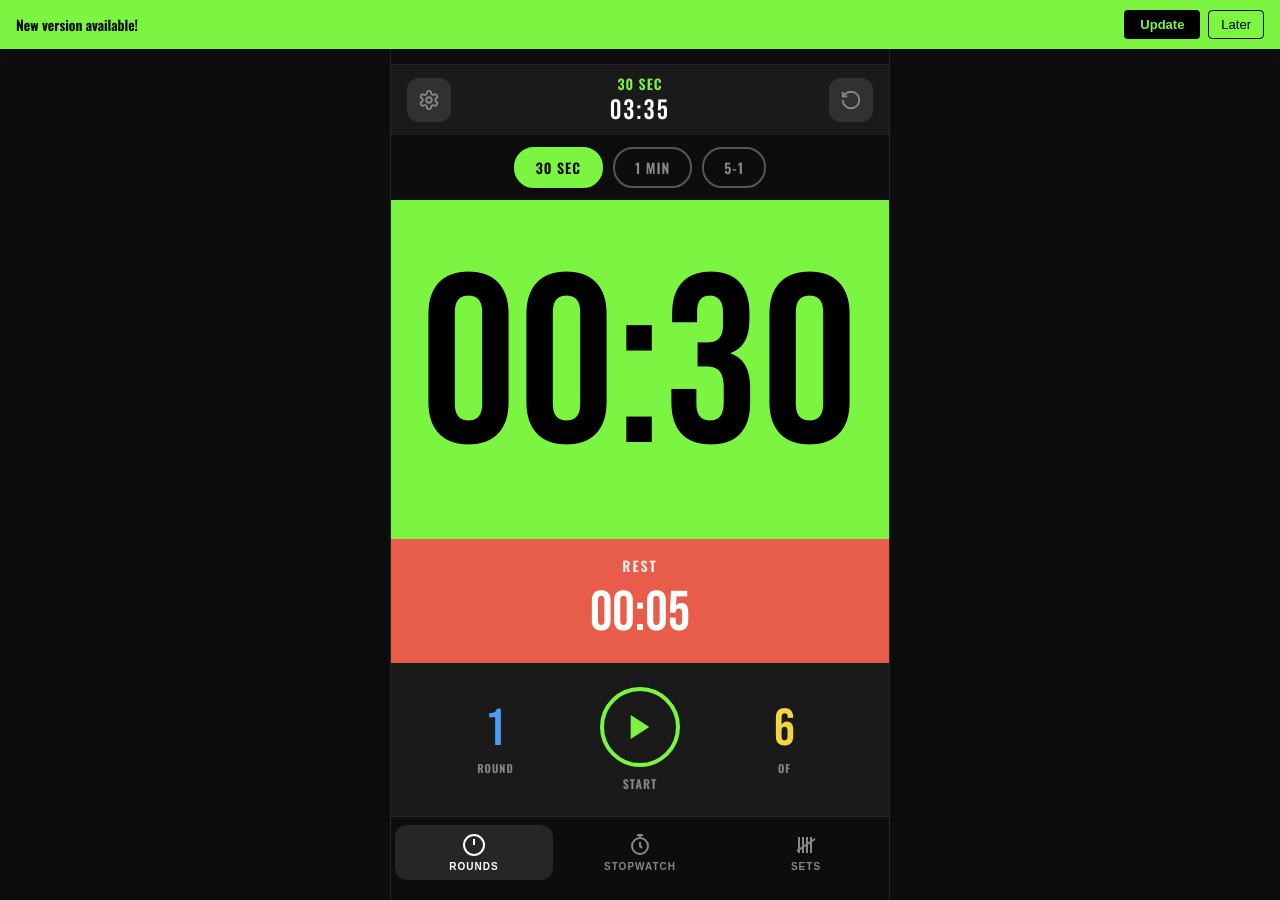
Test: App › should close timer settings modal when close button clicked
The image size is (1280, 900).
Click the button named "Timer Settings" at (429, 100), box [407,78,451,122]
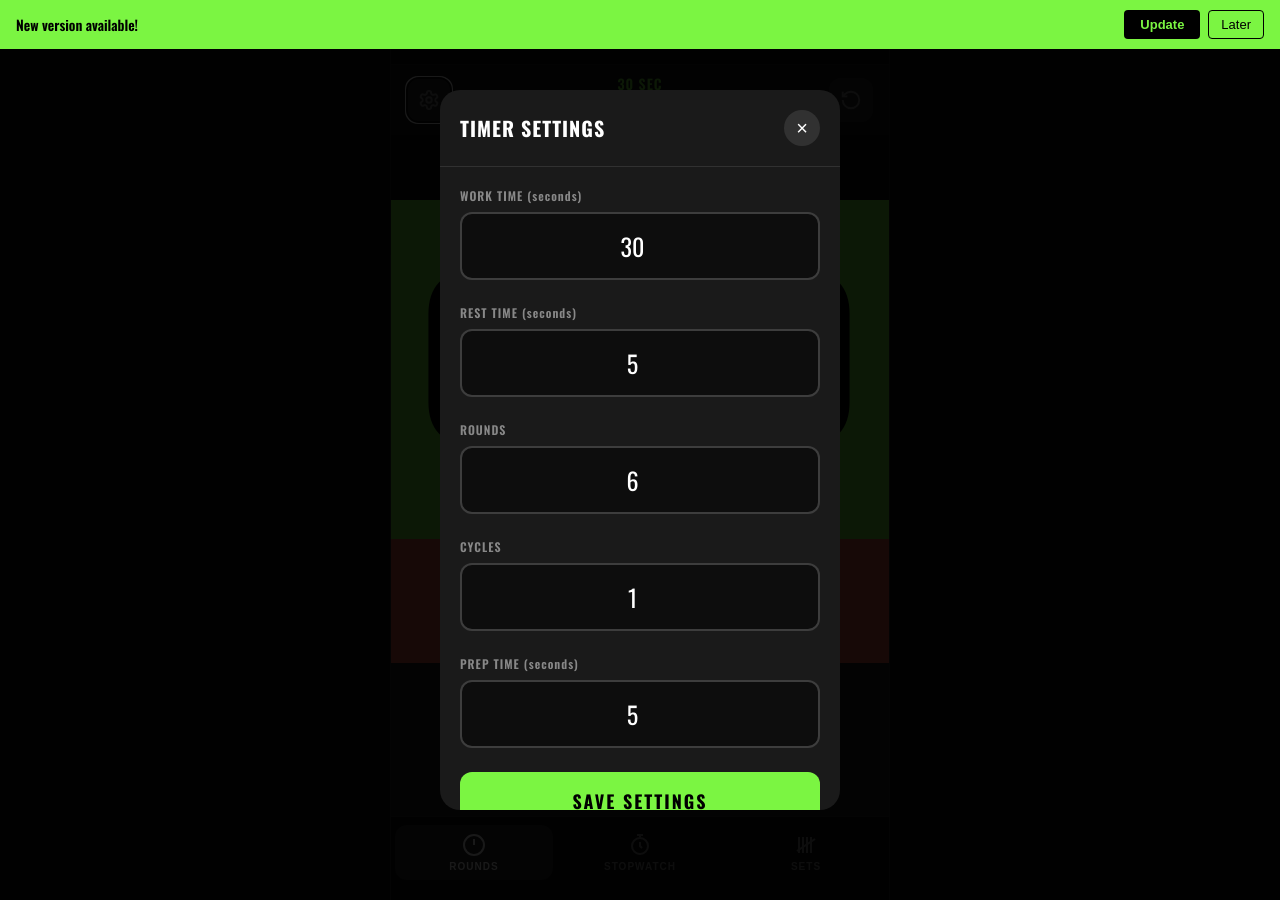
Click the button "×" at (802, 128), box [784,110,820,146]
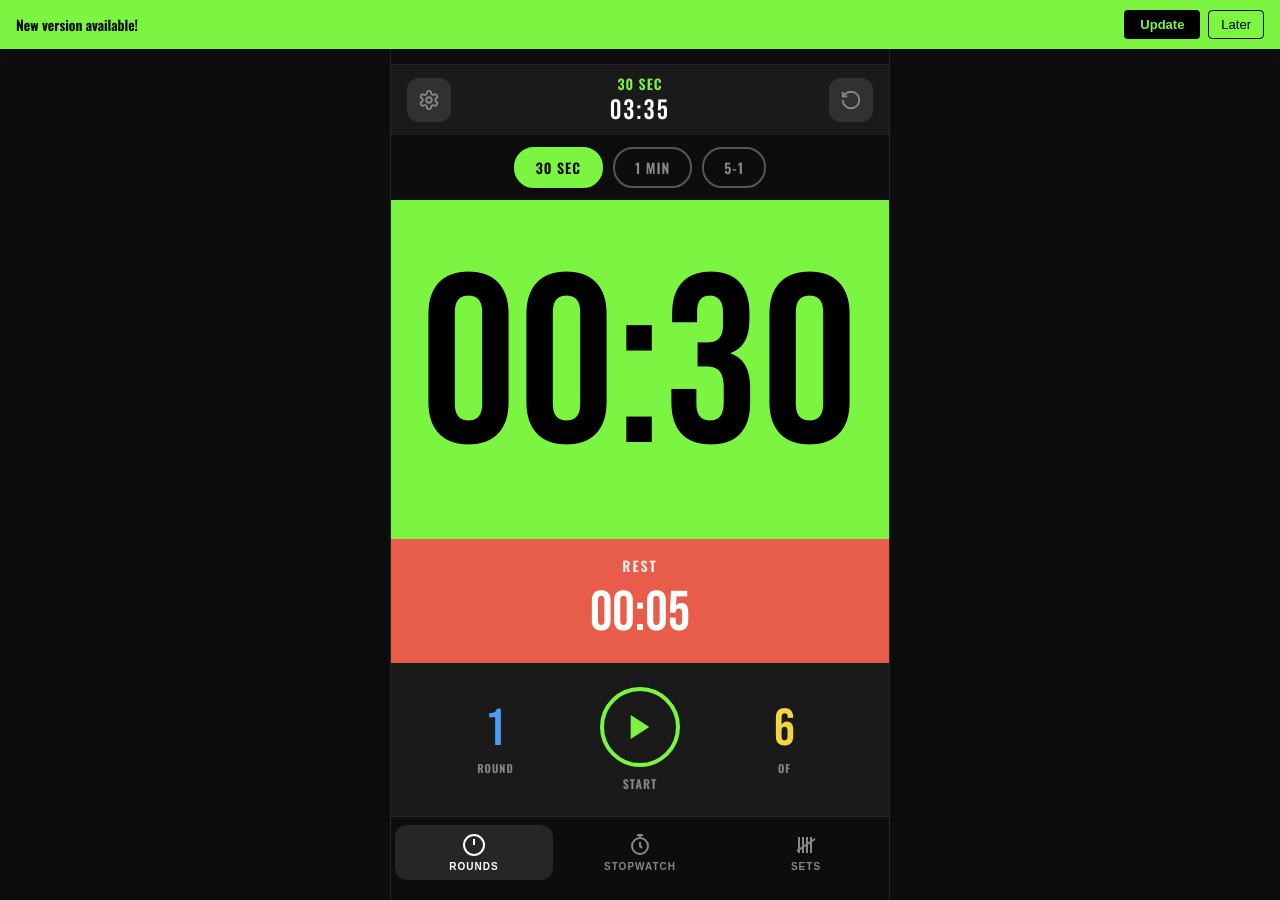
Check: the heading "TIMER SETTINGS" is gone
